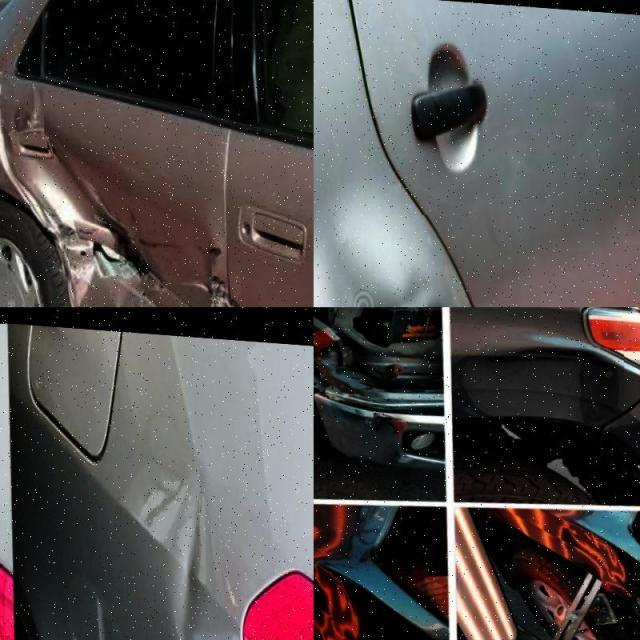car damage: (7, 112, 194, 301), (480, 342, 630, 428), (81, 196, 160, 281), (174, 476, 214, 640), (398, 276, 438, 308)
